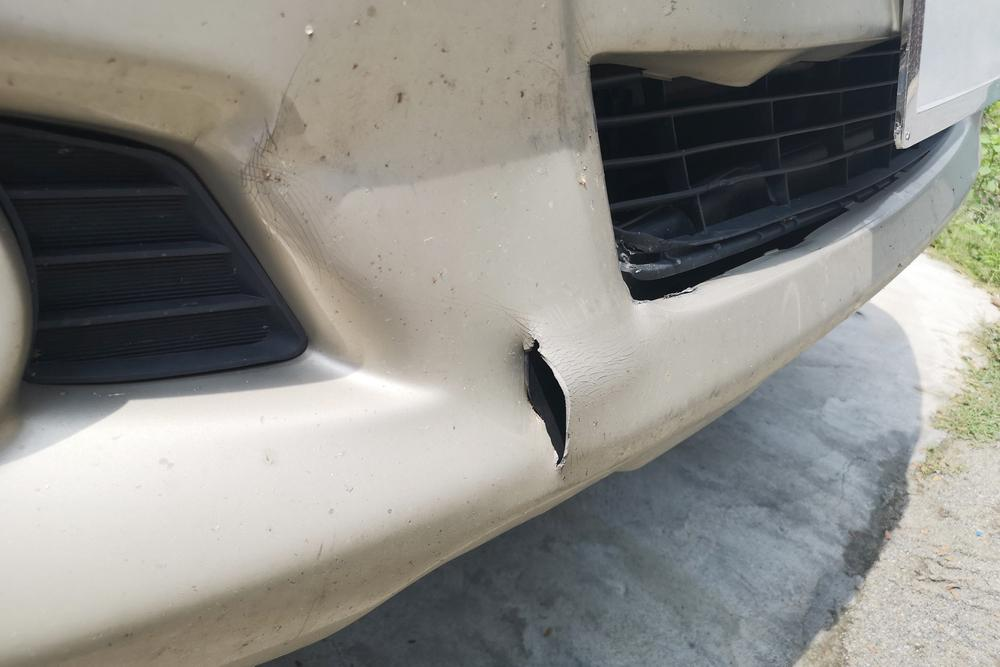crack: (526, 336, 569, 472)
